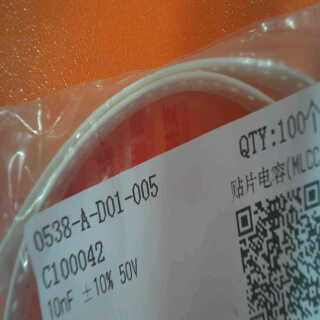10nF: (44, 285, 77, 320)
